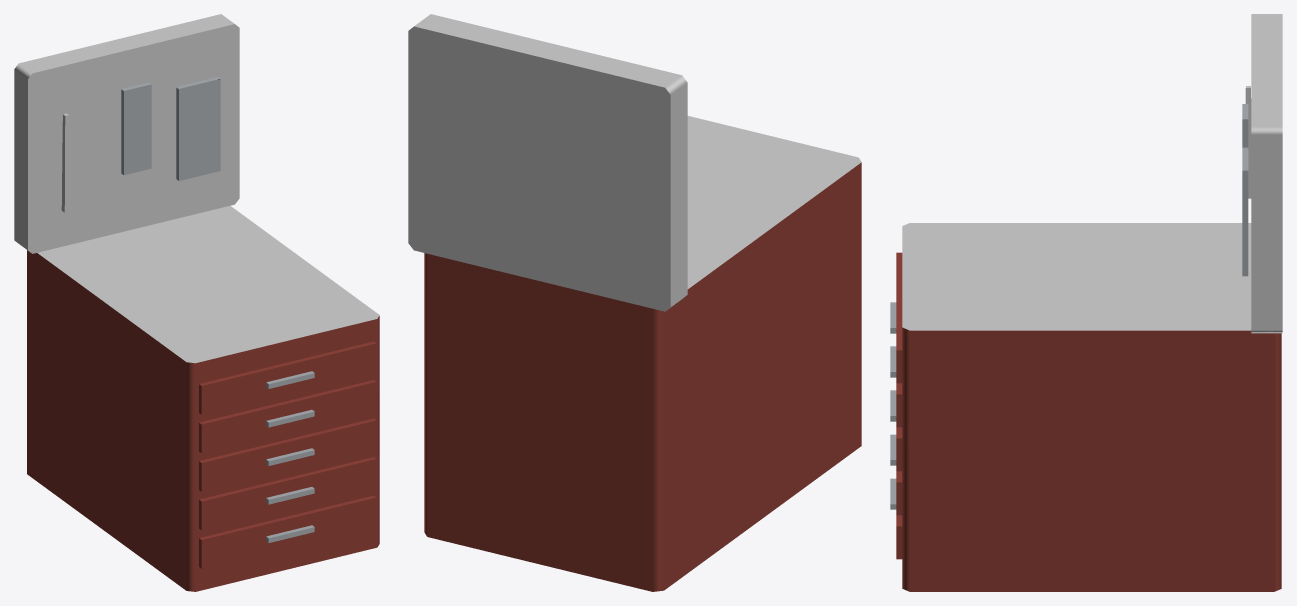
Rendered from tool_cabinet.obj.
The picture shows the model from 3 angles, left to right: view 1: azimuth 30°, elevation 25°; view 2: azimuth 150°, elevation 25°; view 3: azimuth 270°, elevation 25°; orthographic projection. The views are drawn at different scales.
Visible parts, largest first — view 1: cabinet_body, tool_board, drawer_3, drawer_5, drawer_1, drawer_4, drawer_2, hanging_tool_3, hanging_tool_2, hanging_tool_1; view 2: cabinet_body, tool_board; view 3: cabinet_body, tool_board, drawer_5, hanging_tool_3.
Part boxes in pixels (x1,y1,x2,y2): cabinet_body: [27, 205, 379, 591]; tool_board: [14, 14, 239, 253]; drawer_3: [199, 418, 376, 491]; drawer_5: [199, 341, 376, 414]; drawer_1: [199, 495, 376, 568]; drawer_4: [199, 380, 376, 453]; drawer_2: [199, 457, 376, 530]; hanging_tool_3: [176, 77, 220, 180]; hanging_tool_2: [121, 82, 151, 175]; hanging_tool_1: [61, 113, 70, 212]; cabinet_body: [424, 116, 861, 591]; tool_board: [408, 14, 687, 311]; cabinet_body: [902, 223, 1281, 591]; tool_board: [1251, 14, 1282, 333]; drawer_5: [896, 252, 902, 383]; hanging_tool_3: [1242, 147, 1248, 276].
Size of the model in its own units: 0.92 by 1.7 by 1.29.
